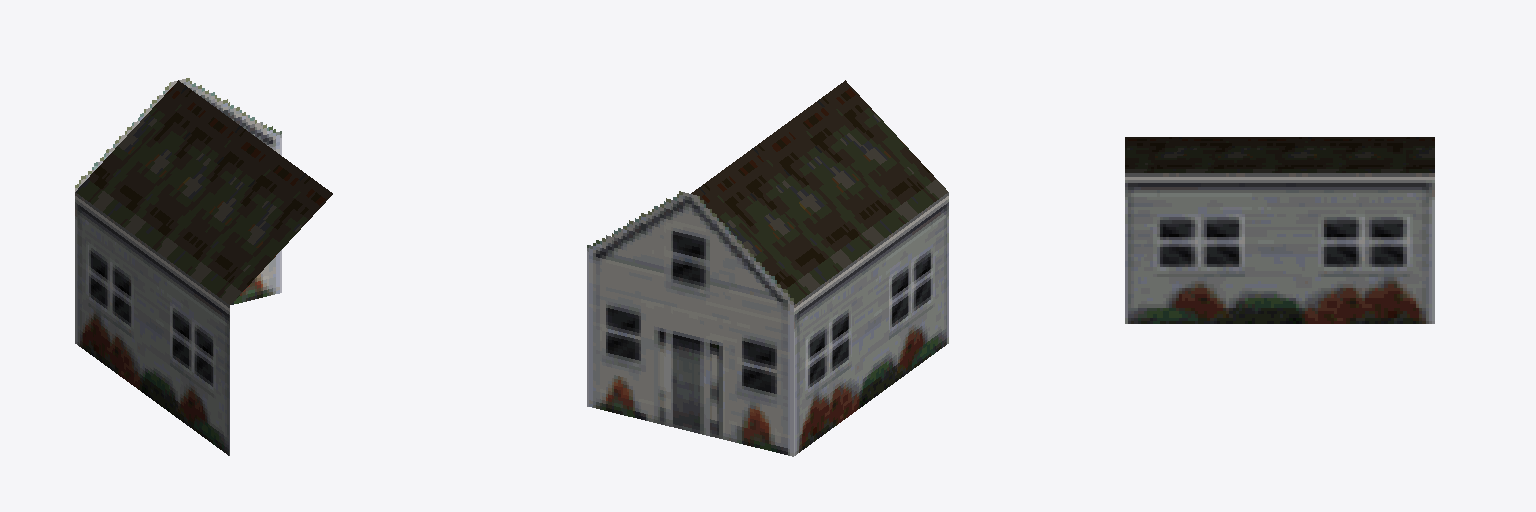
The picture shows the model from 3 angles: view 1: azimuth 30°, elevation 25°; view 2: azimuth 150°, elevation 25°; view 3: azimuth 270°, elevation 25°; orthographic projection.
Bounding box in the file's own units: 240 × 264 × 312.
1 materials, 1 textured.